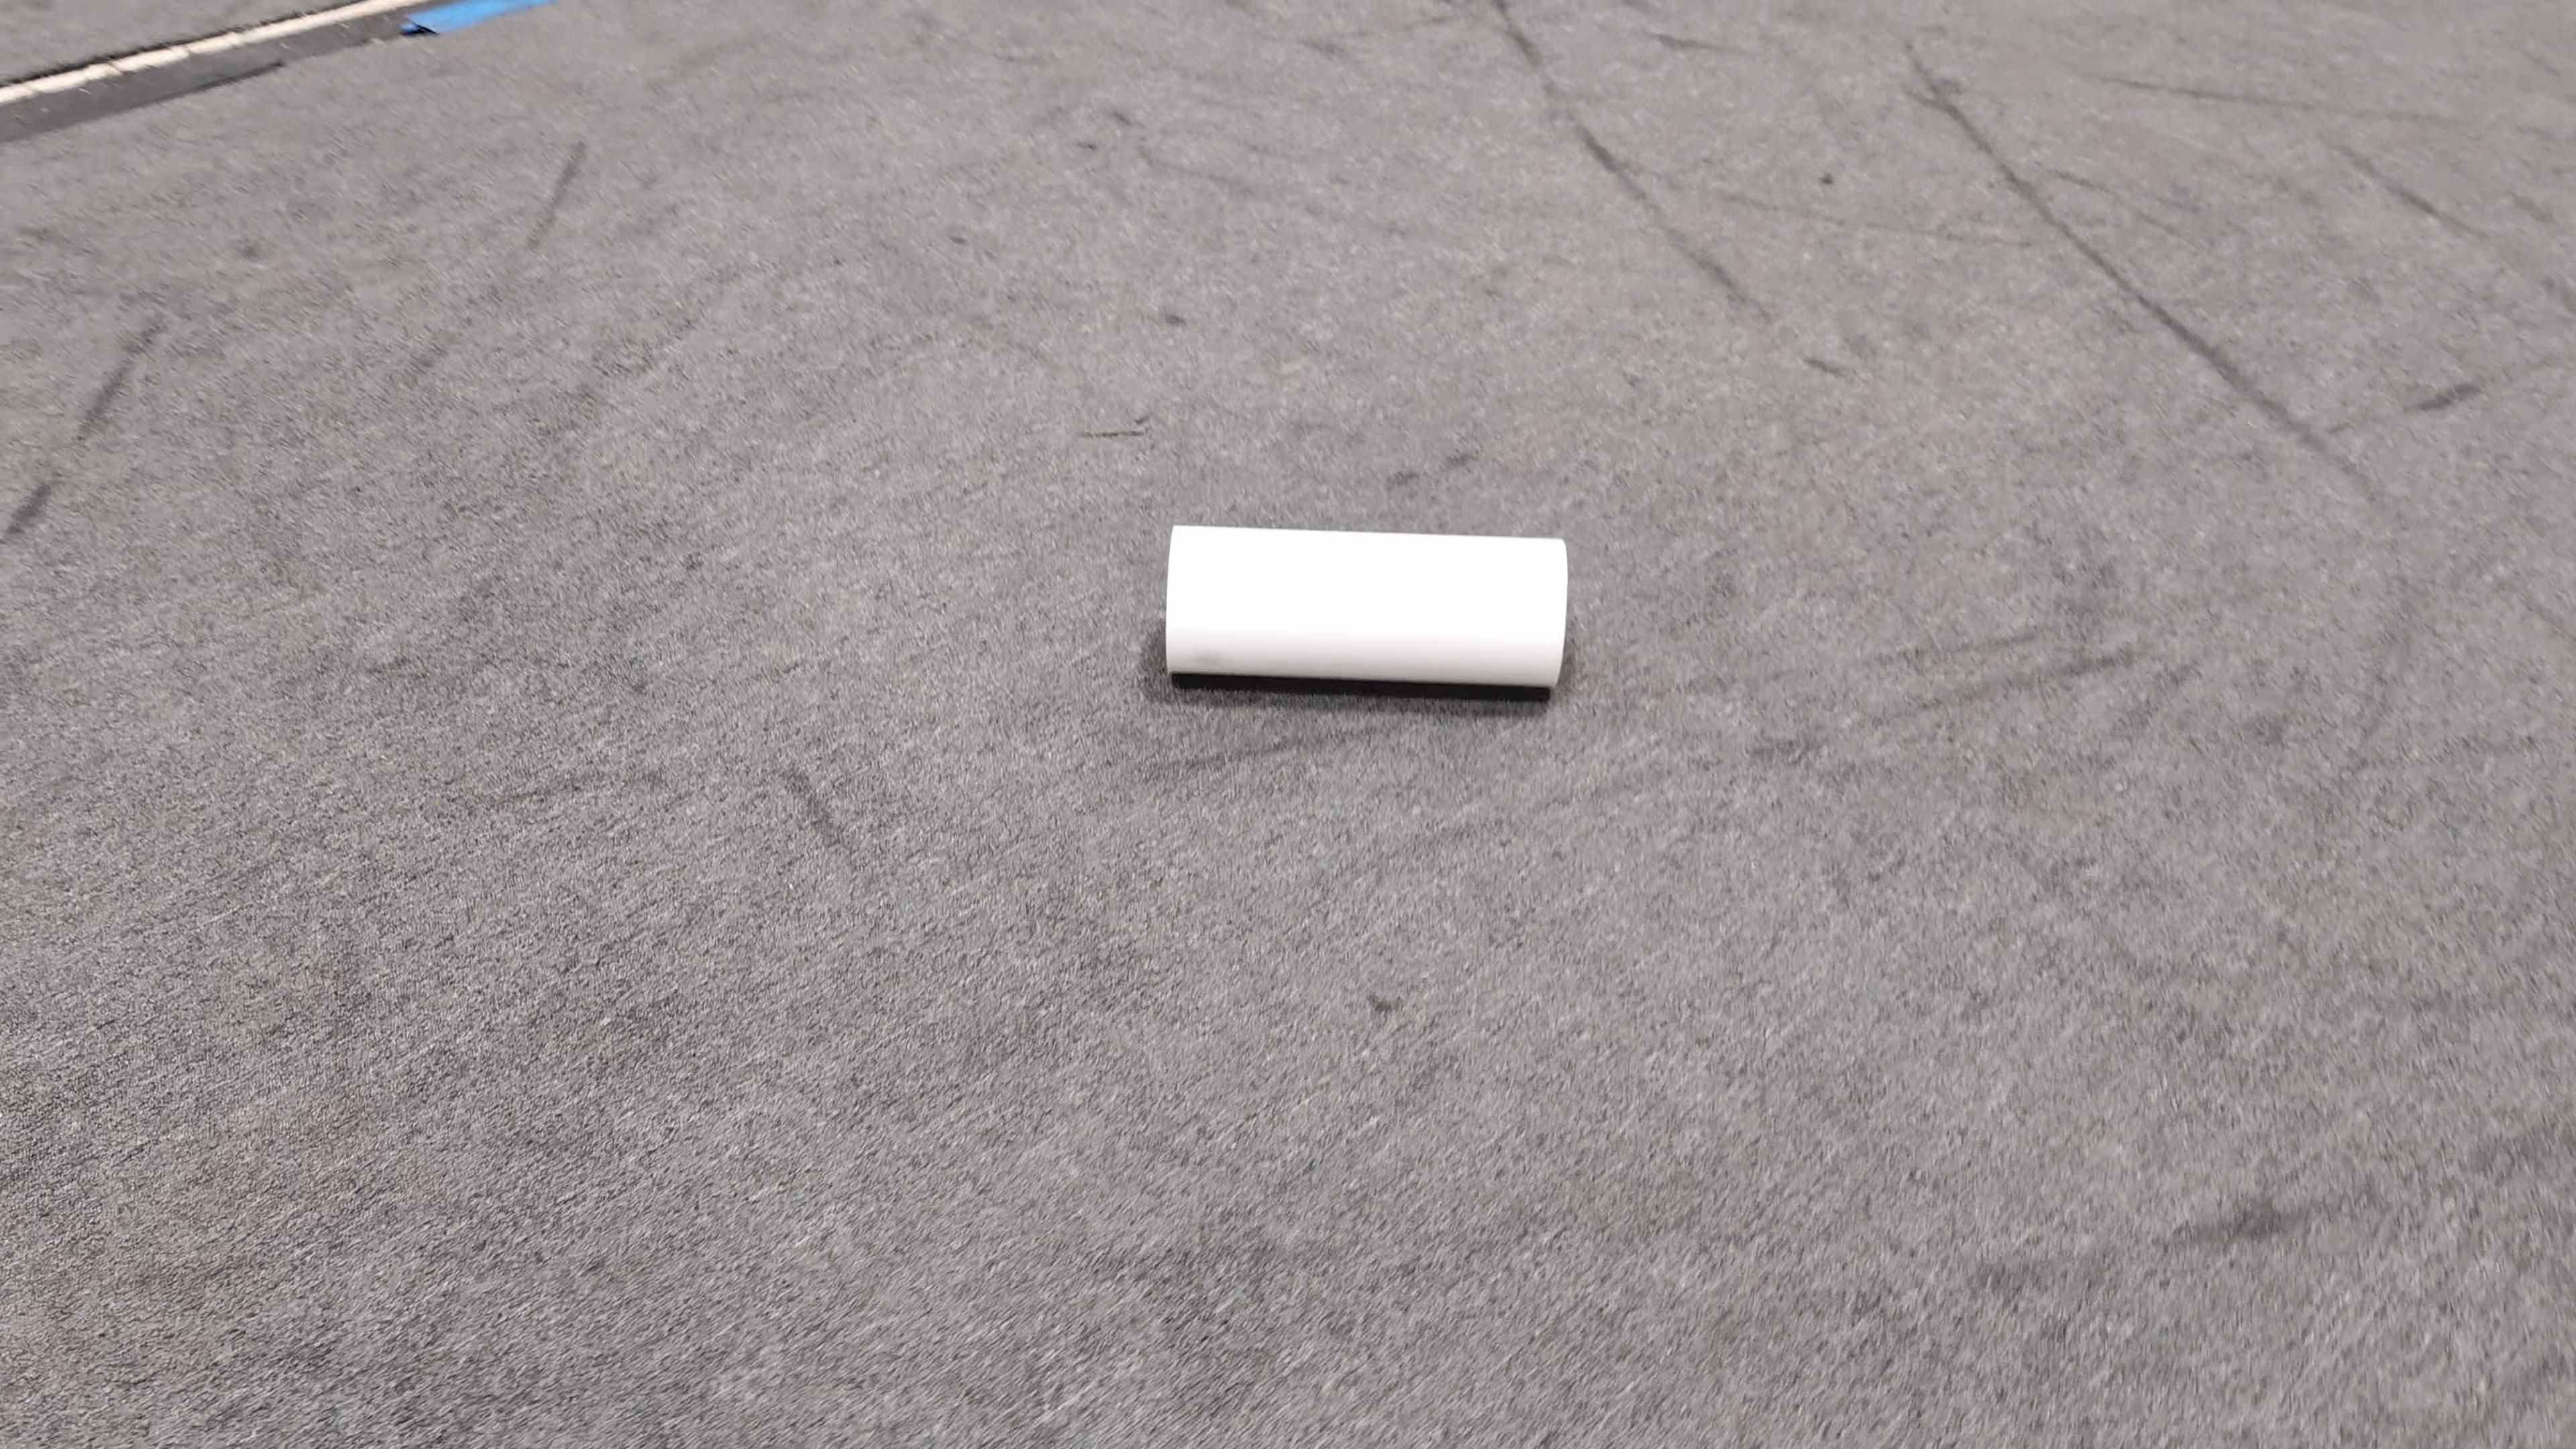coral: (1162, 520, 1568, 688)
